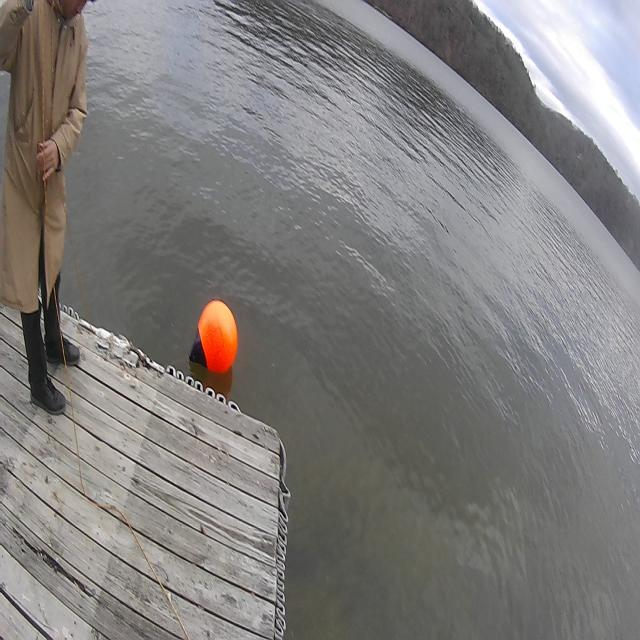Buoy: (186, 295, 243, 384)
